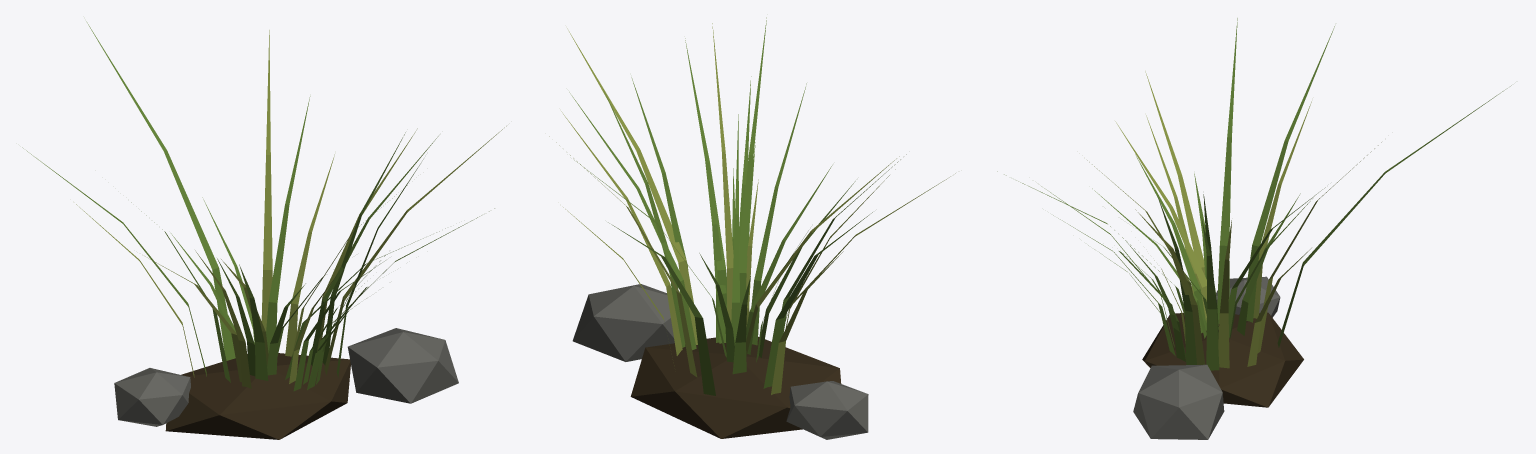
Rendered from bush_water_sedge_idle.glb.
3 views of the same model, side by side, from view 1: azimuth 30°, elevation 25°; view 2: azimuth 150°, elevation 25°; view 3: azimuth 270°, elevation 25° (orthographic). The views are drawn at different scales.
Parts seen in each view (by area): view 1: bush_water_sedge; view 2: bush_water_sedge; view 3: bush_water_sedge.
Boxes of the visible parts, x1,y1,x2,y2 form: bush_water_sedge: (22, 21, 506, 439); bush_water_sedge: (549, 17, 955, 439); bush_water_sedge: (997, 18, 1511, 439).
Bounding box in the file's own units: 0.889 × 0.6696 × 1.05.
